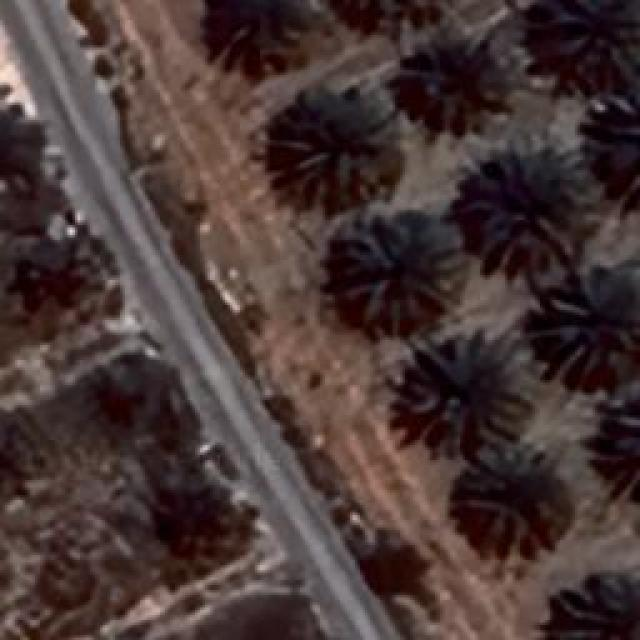PalmTree: (268, 84, 402, 208), (462, 140, 590, 265), (407, 332, 535, 450), (340, 222, 465, 336), (442, 448, 570, 558), (517, 0, 640, 97), (388, 38, 504, 134), (542, 268, 638, 370), (200, 0, 320, 75), (89, 352, 184, 428), (146, 480, 242, 555), (574, 98, 638, 208), (0, 73, 52, 202), (550, 570, 638, 638), (598, 368, 638, 512), (13, 240, 86, 318), (333, 0, 450, 36)
